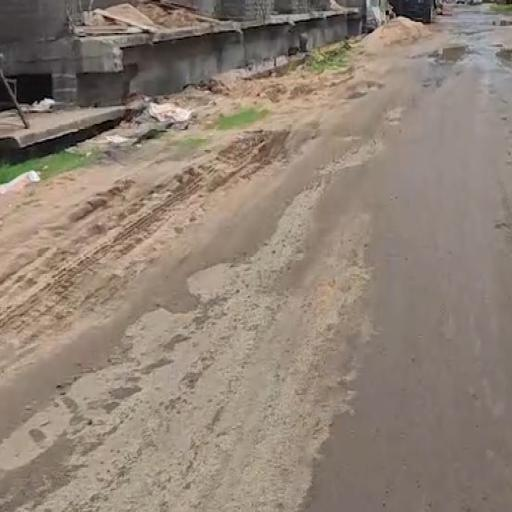ravelling: (13, 153, 393, 502)
